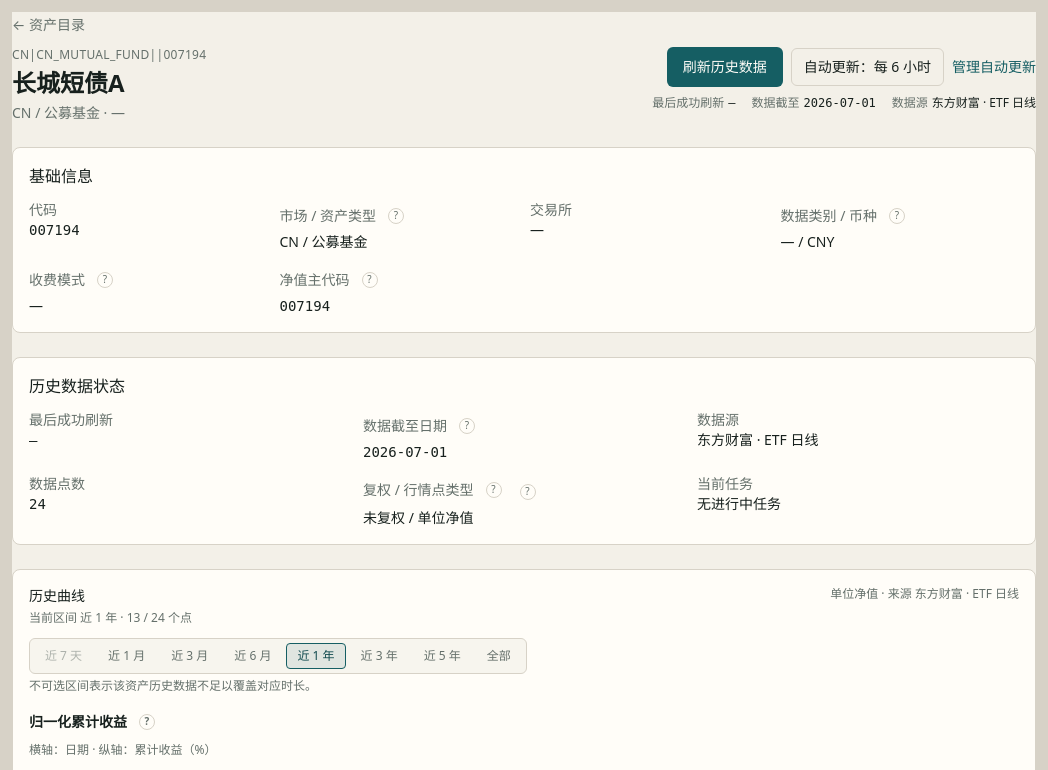
MarketAssetDetailPage automatic update › pauses an enabled rule without changing its history dimension
Click the button "自动更新：每 6 小时" at (867, 67), box [791,48,944,86]
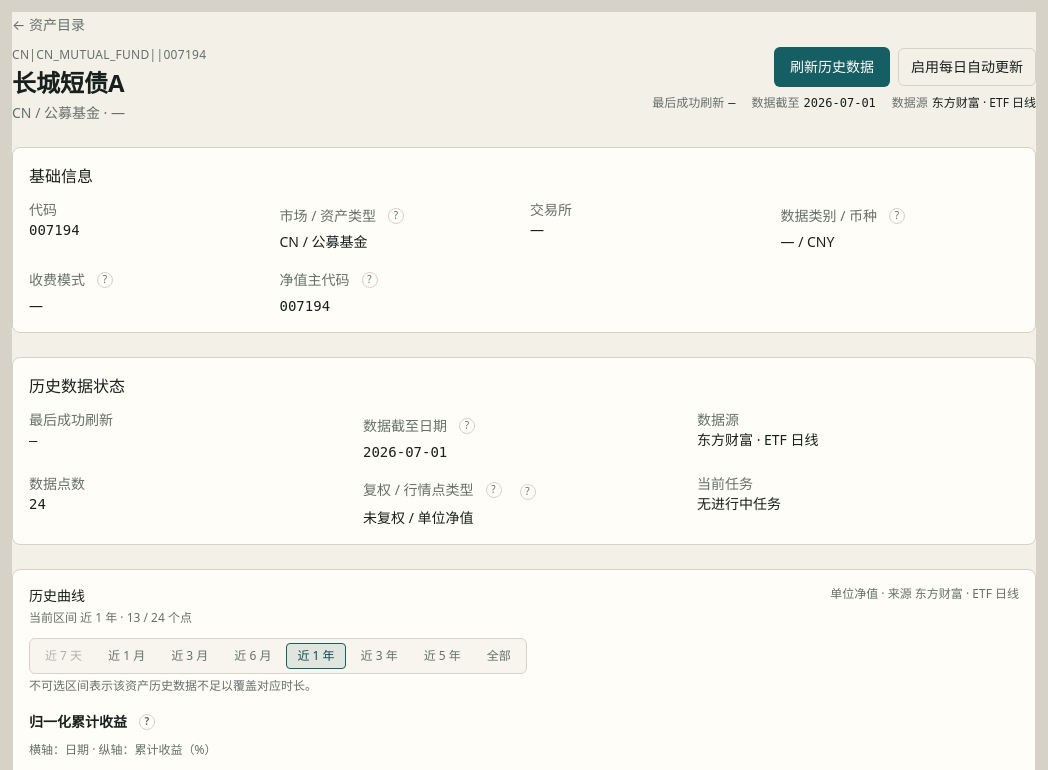
Now the button "启用每日自动更新" is shown, box [898,48,1036,86]
